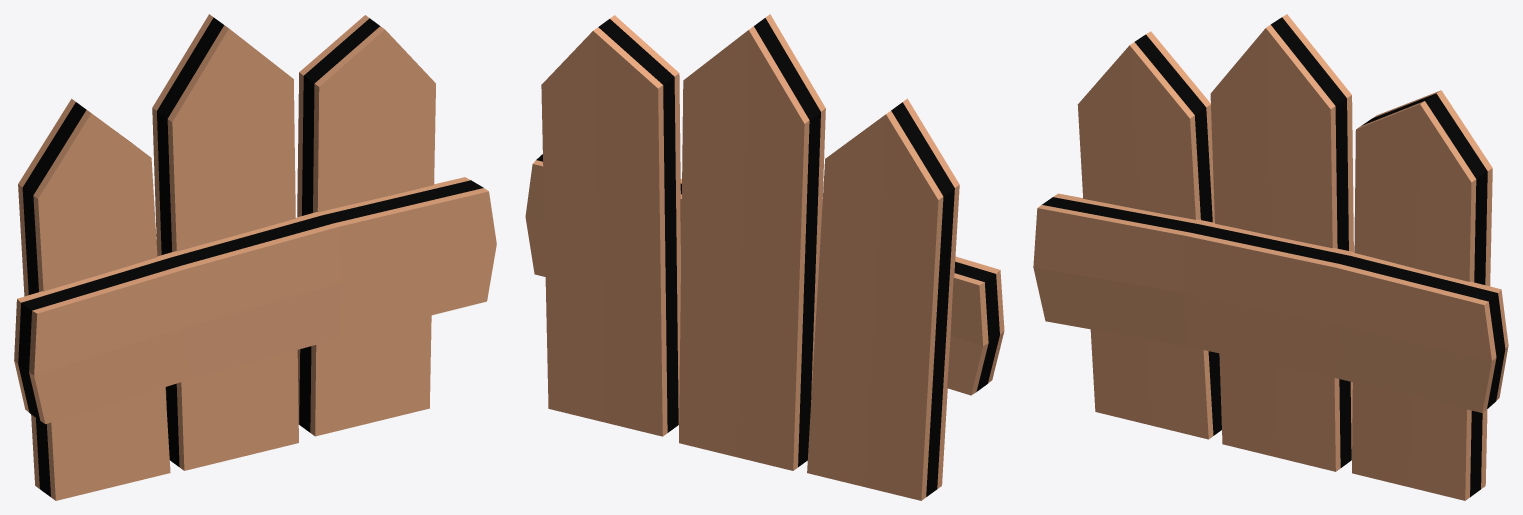
The model's file is CardboardFence.fbx.
The picture shows the model from 3 angles, left to right: view 1: azimuth 30°, elevation 25°; view 2: azimuth 150°, elevation 25°; view 3: azimuth 330°, elevation 25°; orthographic projection.
Visible parts, largest first — view 1: Cube.002; view 2: Cube.002; view 3: Cube.002.
Part boxes in pixels (x1,y1,x2,y2): Cube.002: (14, 14, 496, 500); Cube.002: (525, 14, 1004, 500); Cube.002: (1033, 14, 1508, 500).
Bounding box in the file's own units: 317 × 282 × 48.75.
